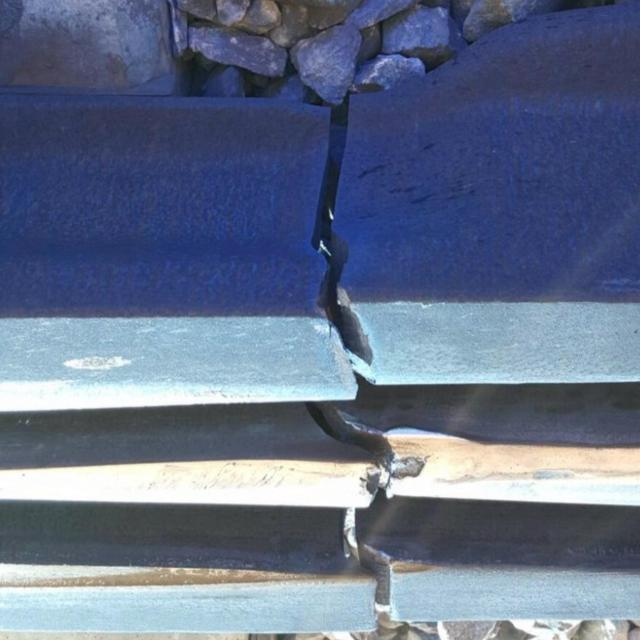broken_rail_high: (294, 94, 408, 400)
